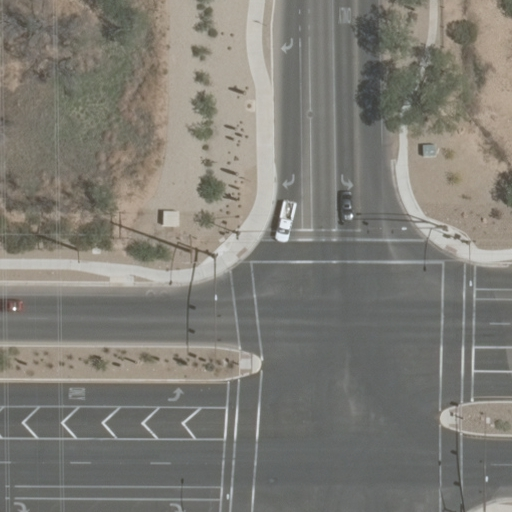DT: (174, 231, 198, 269), (63, 226, 85, 266)
